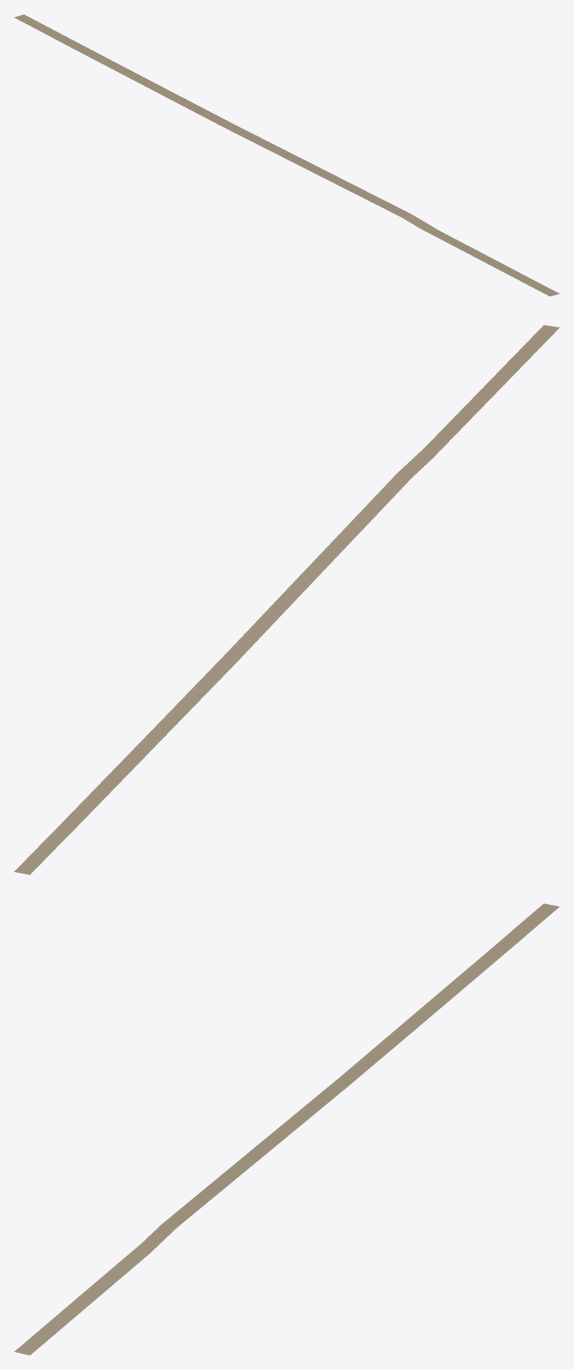
File: farm_-5_10_track.glb
3 views of the same model, one above another, from view 1: azimuth 30°, elevation 25°; view 2: azimuth 150°, elevation 25°; view 3: azimuth 330°, elevation 25° (orthographic). The views are drawn at different scales.
Parts seen in each view (by area): view 1: geometry_0; view 2: geometry_0; view 3: geometry_0.
Part boxes in pixels (box(x1,y1,x2,y2)): geometry_0: box(14, 14, 559, 296); geometry_0: box(14, 325, 559, 874); geometry_0: box(14, 903, 559, 1355).
Bounding box in the file's own units: 27.5 × 10.19 × 240.
